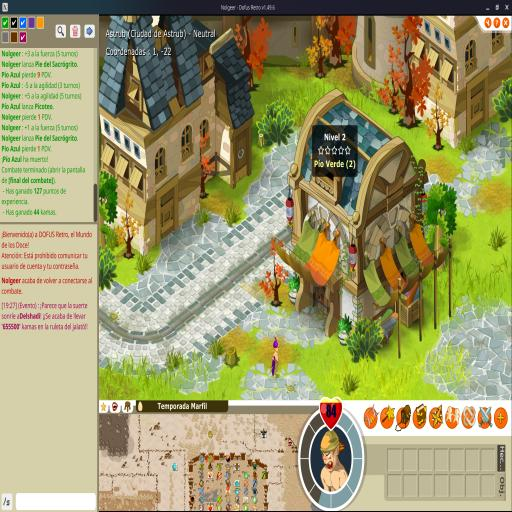Personaje: (268, 335, 283, 385)
